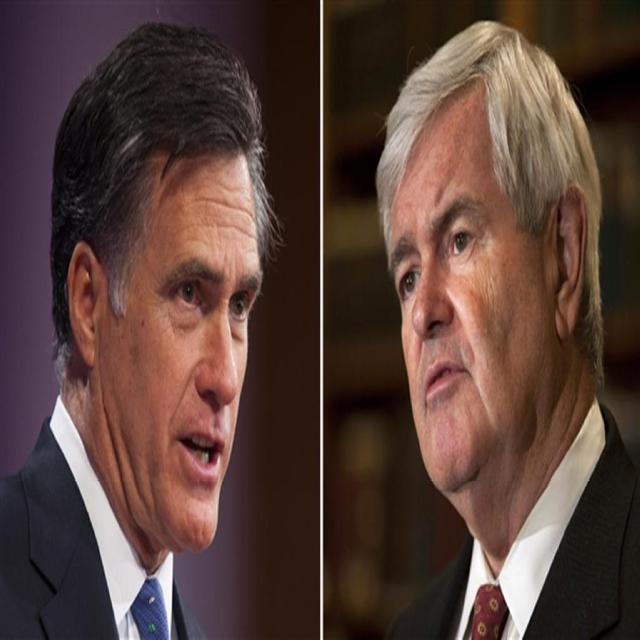Face: (383, 119, 533, 489), (153, 141, 270, 567)
